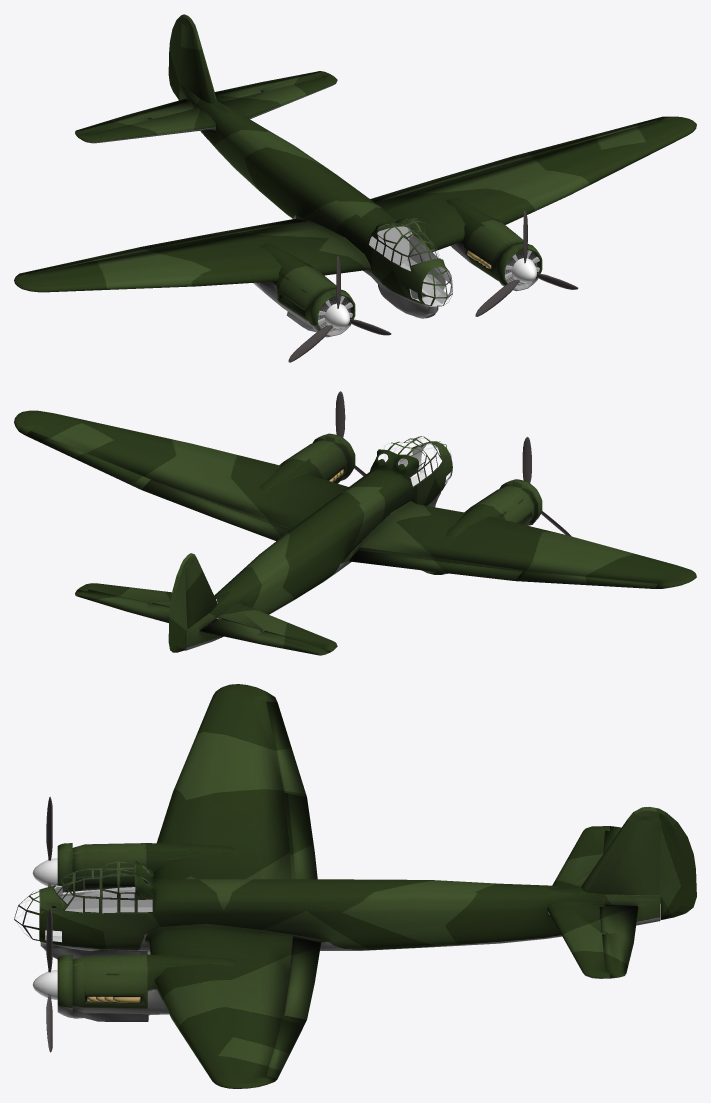
3 views of the same model, one above another, from view 1: azimuth 30°, elevation 25°; view 2: azimuth 150°, elevation 25°; view 3: azimuth 270°, elevation 25° (orthographic). The views are drawn at different scales.
Parts seen in each view (by area): view 1: airframe, prop_1, prop_2; view 2: airframe, prop_2, prop_1; view 3: airframe, prop_1, prop_2.
Boxes of the visible parts, x1,y1,x2,y2 form: airframe: (14,14,696,337); prop_1: (475,210,578,316); prop_2: (288,256,391,362); airframe: (14,410,696,655); prop_2: (522,437,571,536); prop_1: (335,391,366,476); airframe: (14,684,696,1088); prop_1: (32,908,57,1052); prop_2: (32,796,57,886).
Size of the model in its own units: 20.05 by 3.76 by 14.33.
Materials: 10 (2 with a texture image).
